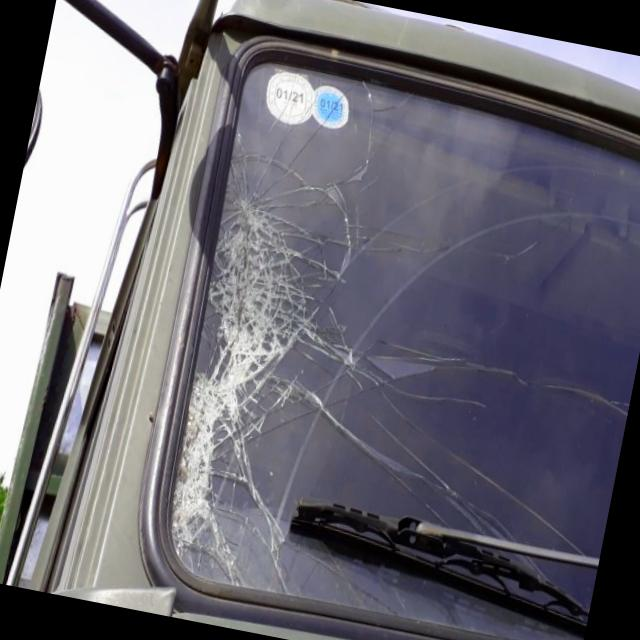Fissure: (356, 397, 612, 561), (370, 333, 634, 437), (189, 185, 301, 400), (193, 427, 321, 584), (322, 73, 397, 273), (221, 47, 312, 209), (168, 376, 224, 536)
